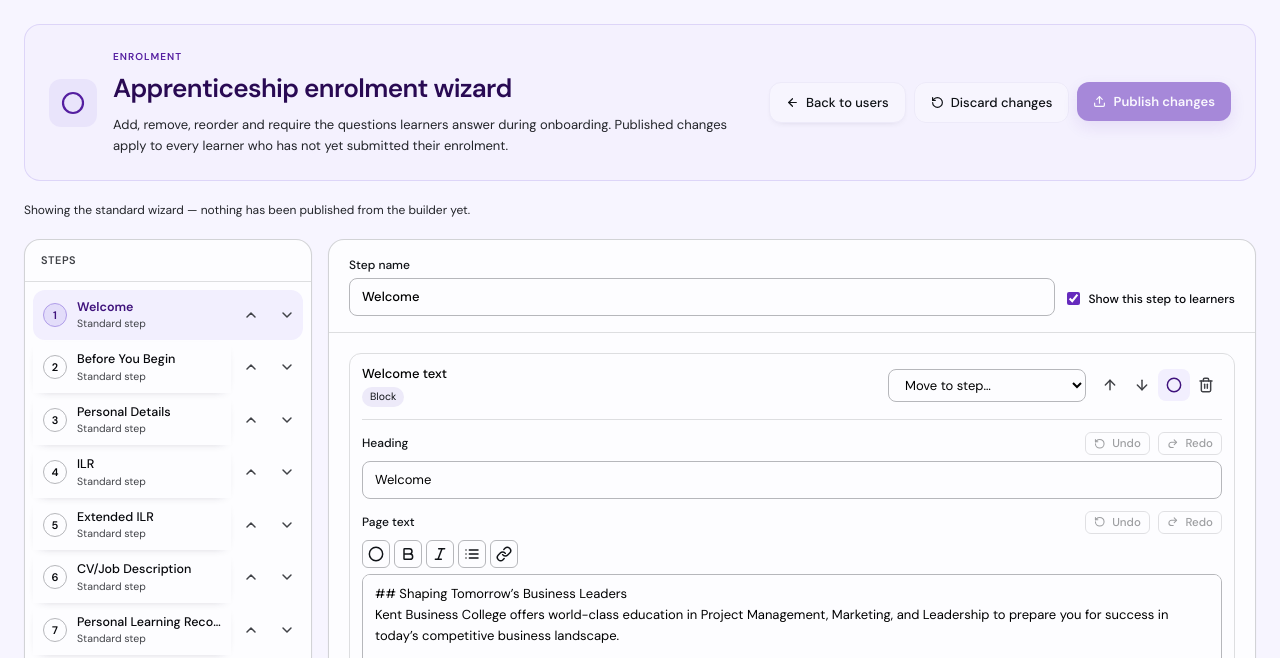
Test case: the builder page › starts from the standard wizard and cannot publish until something changes
Click the button "3 Personal Details Standard step".
click(132, 420)  # box top-left (33, 394), bottom-right (231, 445)
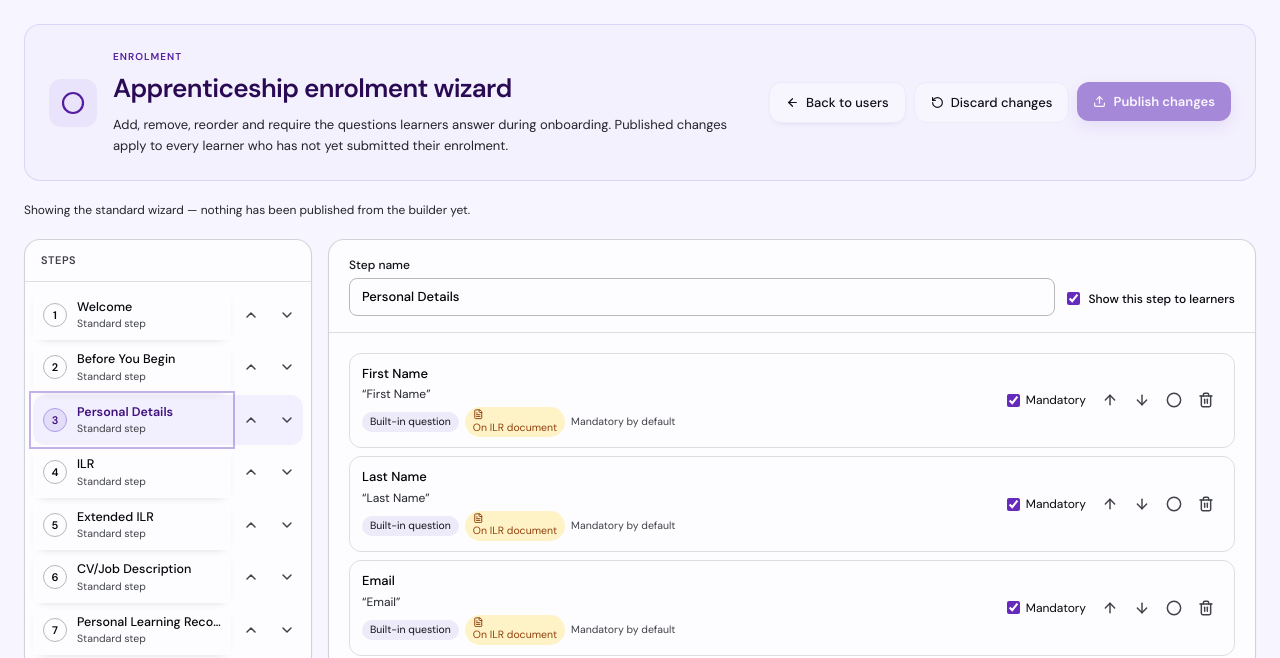
Expected: the text "nothing has been published from the builder yet" is shown, top-left (24, 202), bottom-right (470, 218)
Now the text "First Name" is shown, box top-left (362, 364), bottom-right (428, 382)
